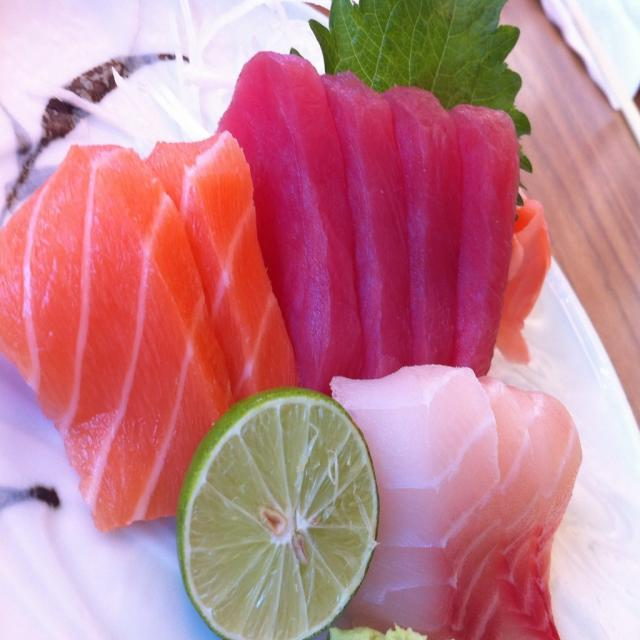Lemon: (176, 386, 380, 640)
